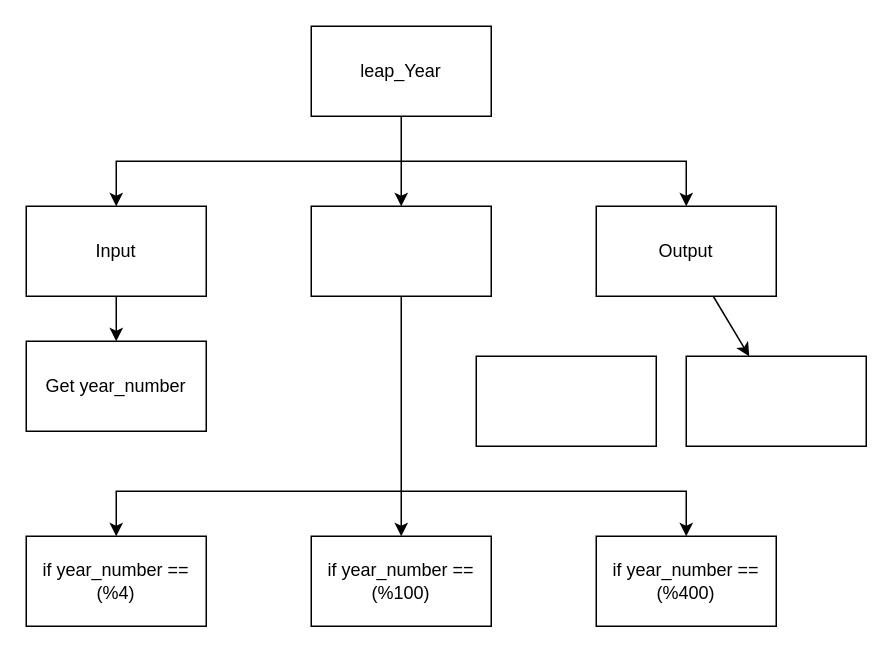
Image size: 893x653. Some labels were removed from this diagram. The centre of each missing label's shape, as x and y in pixels:
print "Leap year": point 565,400
print "not leap year": point 775,400
Process: point 400,250
